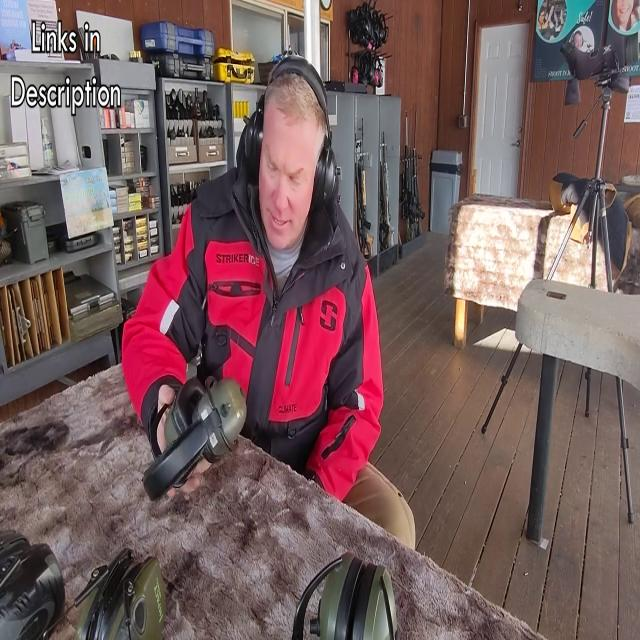earmuff: (309, 132, 343, 218), (242, 106, 266, 186)
